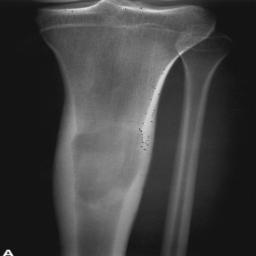cancer: (72, 123, 142, 219)
